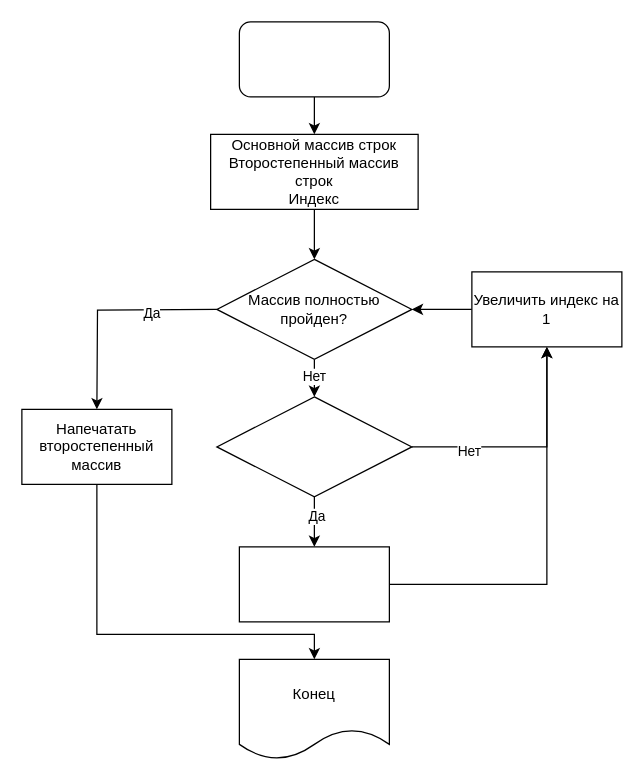
This 644x781 diagram has some shape labels left out. Here are the shapes that lost their labels. From the top down, the centre of each, then its label:
At [313,59]: "Старт".
At [314,446]: "Длинна слова меньше либо равна 3?".
At [313,584]: "Отложить индекс во второстепенный массив".
